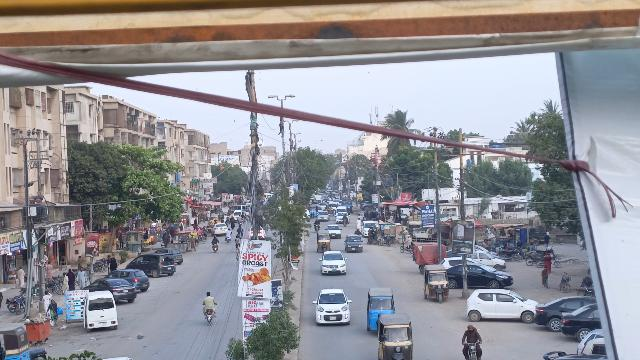Bike: (557, 268, 575, 295), (461, 341, 481, 360), (202, 308, 218, 327)
Car: (464, 284, 538, 326), (444, 263, 513, 291), (311, 286, 355, 328), (86, 275, 136, 303), (126, 252, 180, 277), (104, 268, 151, 293), (317, 251, 349, 276), (343, 233, 365, 254)
Person: (44, 299, 63, 327), (461, 324, 481, 344), (74, 265, 88, 290), (200, 290, 217, 310), (59, 271, 70, 295), (65, 266, 75, 290), (106, 255, 120, 272), (42, 289, 50, 315)
Rickshaw: (374, 314, 418, 360), (364, 283, 397, 334), (419, 263, 453, 306), (315, 229, 334, 253)
Van: (81, 290, 120, 332)
